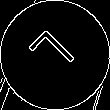L_SE: (27, 27, 83, 83)
